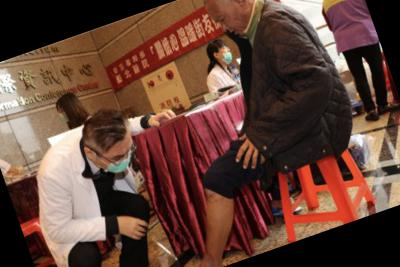with_mask: (95, 139, 142, 179), (217, 44, 235, 67), (57, 106, 73, 125)
without_mask: (211, 4, 254, 45)
